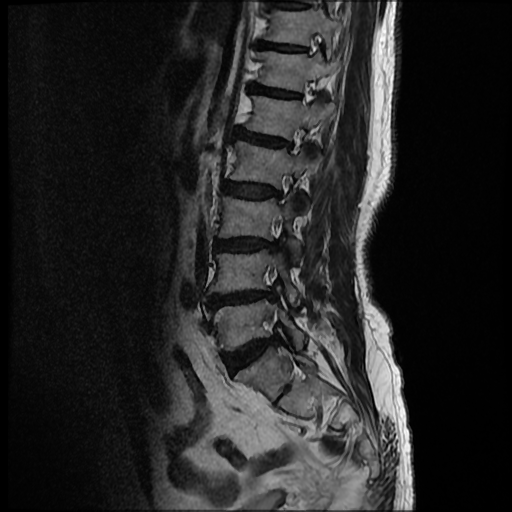RFS0: (266, 167, 300, 207), (278, 122, 311, 161)
